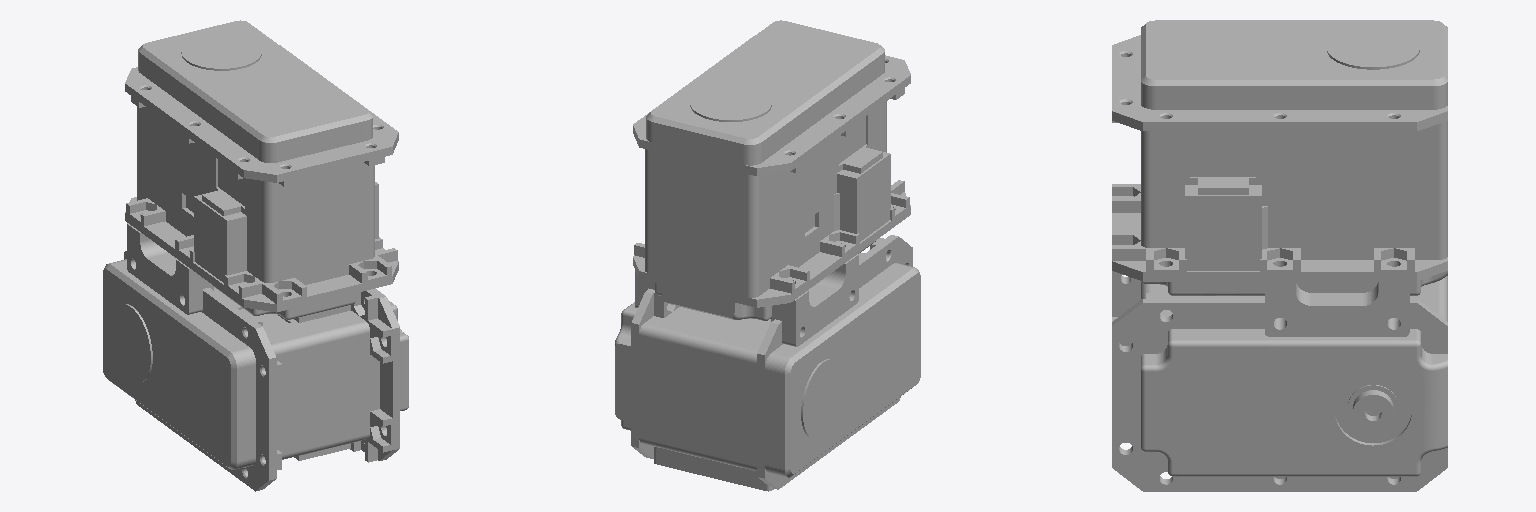
robot.urdf — root:
<?xml version='1.0' encoding='utf-8'?>
<robot name="root">
  <link name="link_001">
    <visual>
      <origin xyz="0 0 0" rpy="0 0 0" />
      <geometry>
        <mesh filename="b3b672caf45a48b2203acb9cd5fe1b2e7ca0508b845b0002e0694dbb6772d1d0_scale_104.stl" scale="1.0000E+00 1.0000E+00 1.0000E+00" />
      </geometry>
      <material name="">
        <color rgba="7.50E-01 7.50E-01 7.50E-01 1" />
      </material>
    </visual>
    <collision>
      <origin xyz="0 0 0" rpy="0 0 0" />
      <geometry>
        <mesh filename="b3b672caf45a48b2203acb9cd5fe1b2e7ca0508b845b0002e0694dbb6772d1d0_scale_104.stl" scale="1.0000E+00 1.0000E+00 1.0000E+00" />
      </geometry>
    </collision>
  </link>
</robot>

--- What the picture shows (computed from the rendered views, not written in the file) ---
3 views of the same robot in one strip: view 1: azimuth 30°, elevation 25°; view 2: azimuth 150°, elevation 25°; view 3: azimuth 270°, elevation 25° (orthographic).
Robot: root — 1 links, 0 joints (none); root link link_001; default pose: all joints at 0.
Links seen in each view (by area): view 1: link_001; view 2: link_001; view 3: link_001.
Boxes of the visible links, bbox=[...] form: link_001: bbox=[103, 20, 408, 491]; link_001: bbox=[615, 20, 920, 491]; link_001: bbox=[1112, 20, 1447, 491].
Size in the robot's own frame: 0.0498 by 0.0676 by 0.09 metres.
Meshes: 1 distinct files referenced, 1 mesh visuals loaded (1 binary STL).
